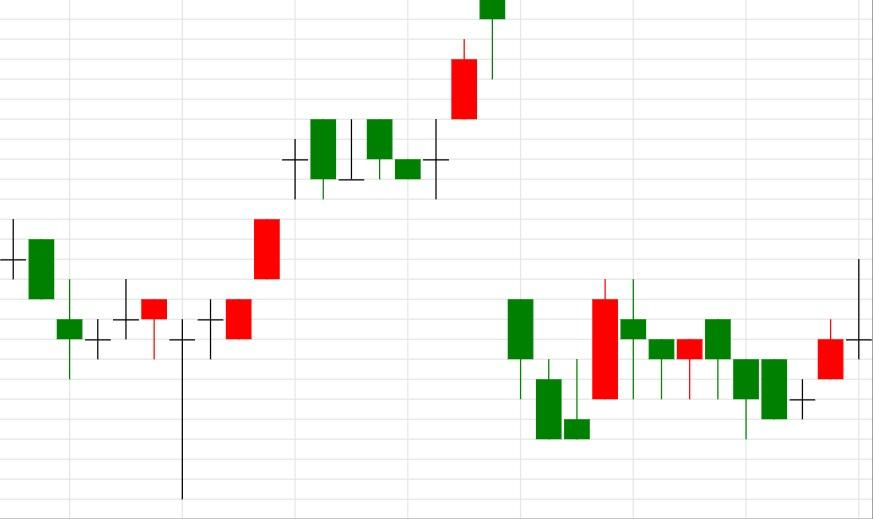hanging_man_fall: (396, 0, 506, 199)
inverse_hammer_rise: (479, 0, 591, 440)
